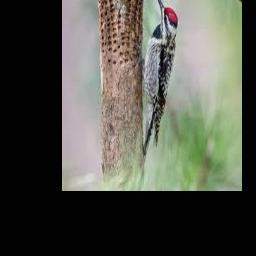Woodpecker: (141, 0, 177, 159)
